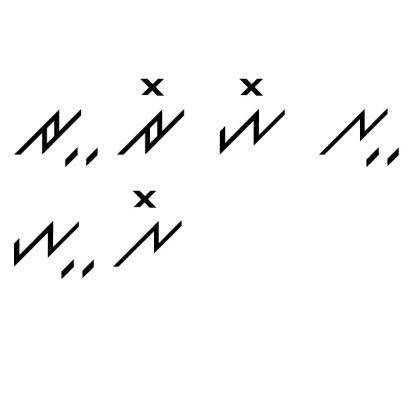lah: (314, 96, 402, 179)
lo: (112, 184, 189, 276)
rah: (13, 102, 100, 174)
ro: (107, 76, 202, 165)
yah: (9, 206, 96, 288)
yo: (216, 68, 293, 156)
